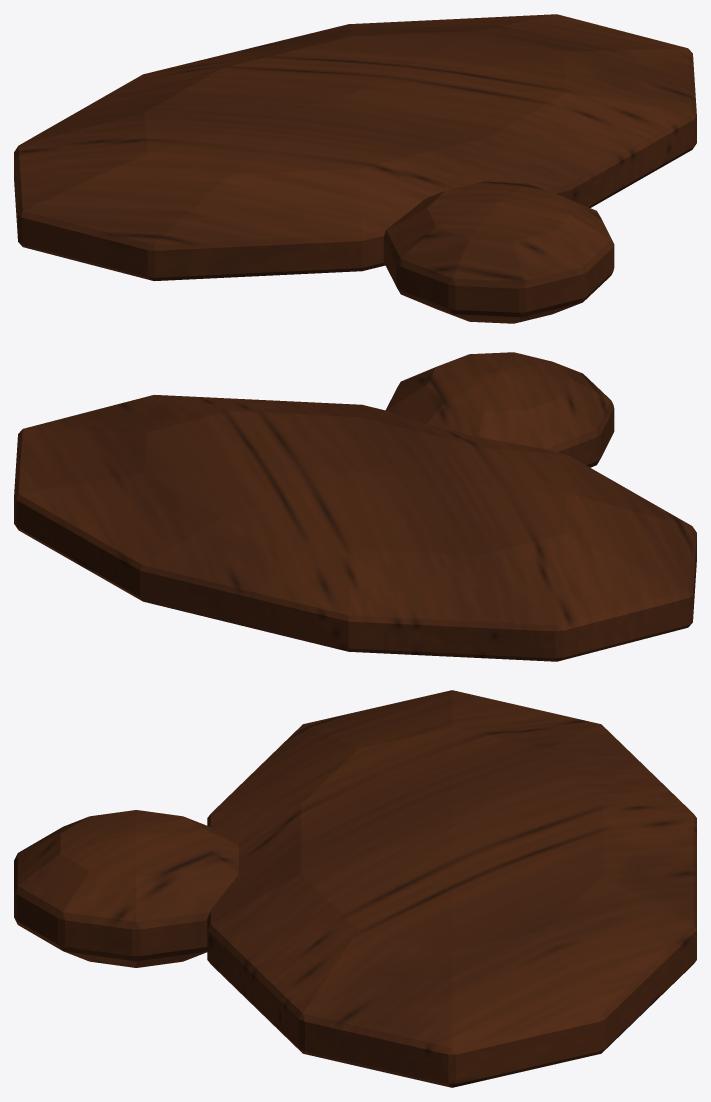
The model's file is PROP-54F89A72BE4C_lod1.glb.
3 views of the same model, one above another, from view 1: azimuth 30°, elevation 25°; view 2: azimuth 150°, elevation 25°; view 3: azimuth 270°, elevation 25° (orthographic). The views are drawn at different scales.
Parts seen in each view (by area): view 1: small_roadside_animal.002, small_animal_head.002; view 2: small_roadside_animal.002, small_animal_head.002; view 3: small_roadside_animal.002, small_animal_head.002.
Boxes of the visible parts, x1,y1,x2,y2 form: small_roadside_animal.002: (14, 14, 696, 280); small_animal_head.002: (383, 181, 614, 323); small_roadside_animal.002: (14, 395, 696, 661); small_animal_head.002: (385, 352, 614, 467); small_roadside_animal.002: (207, 690, 696, 1087); small_animal_head.002: (14, 810, 238, 967).
Bounding box in the file's own units: 0.757 × 0.12 × 0.6056.
Materials: 1 (1 with a texture image).
